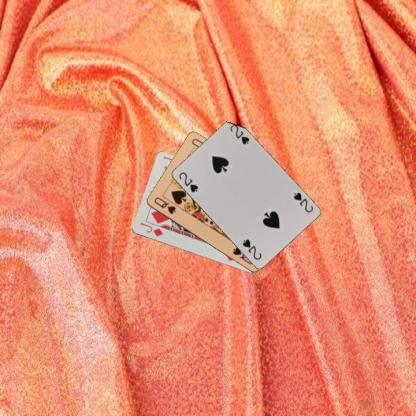2s: (176, 169, 200, 194), (291, 189, 314, 214)
Jd: (138, 220, 164, 238)
Qs: (151, 194, 177, 216)
